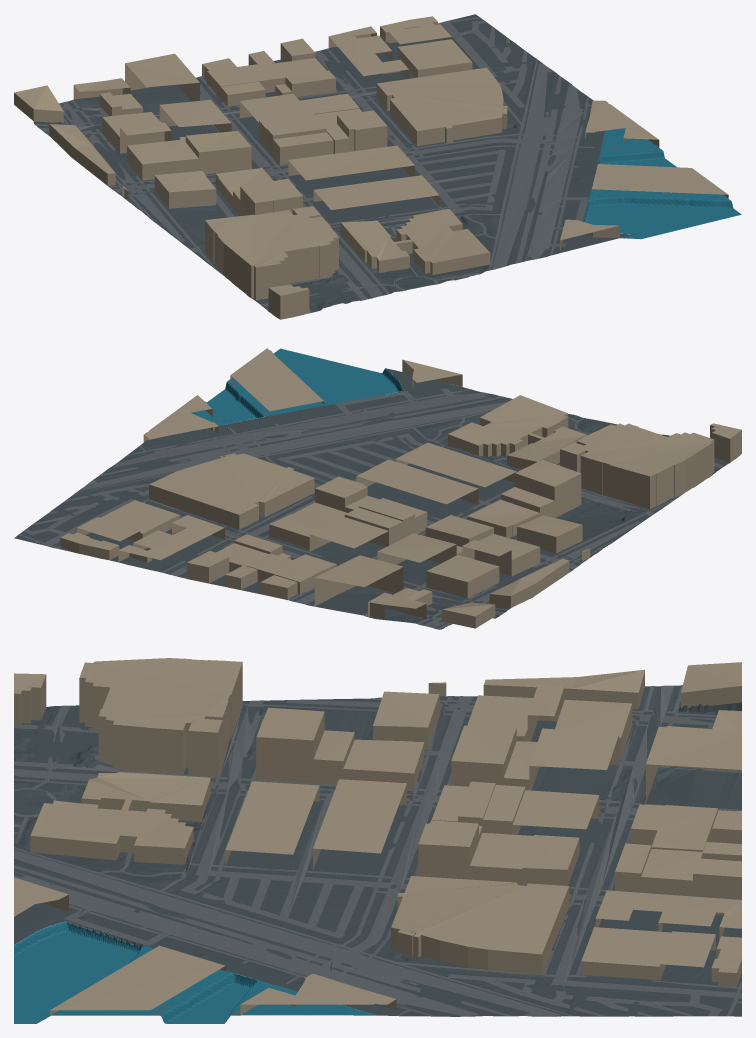
File: epsg26910-1439-10895.lod0.glb
The picture shows the model from 3 angles, top to bottom: view 1: azimuth 30°, elevation 25°; view 2: azimuth 150°, elevation 25°; view 3: azimuth 270°, elevation 25°; orthographic projection. The views are drawn at different scales.
Visible parts, largest first — view 1: epsg26910-1439-10895-lod0; view 2: epsg26910-1439-10895-lod0; view 3: epsg26910-1439-10895-lod0.
Boxes of the visible parts, x1=… form: epsg26910-1439-10895-lod0: x1=14, y1=14, x2=741, y2=319; epsg26910-1439-10895-lod0: x1=14, y1=348, x2=741, y2=629; epsg26910-1439-10895-lod0: x1=14, y1=658, x2=741, y2=1023.
Bounding box in the file's own units: 384 × 34.89 × 384.
